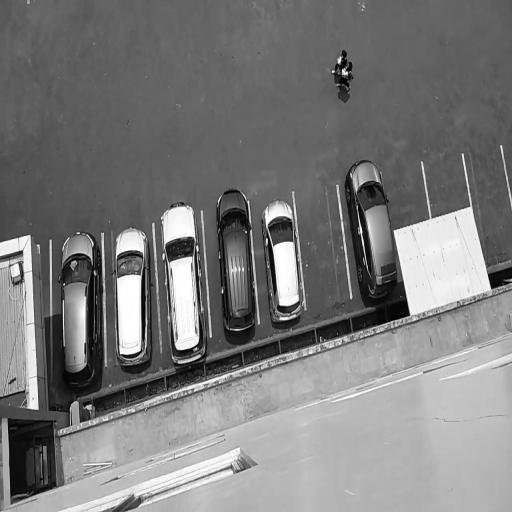Car: (342, 148, 403, 312), (157, 196, 210, 373), (58, 227, 104, 392), (212, 185, 258, 340), (259, 193, 305, 334), (113, 219, 154, 374)
Space Available: (294, 185, 351, 311), (464, 147, 512, 270), (382, 164, 431, 232), (422, 154, 472, 219)
